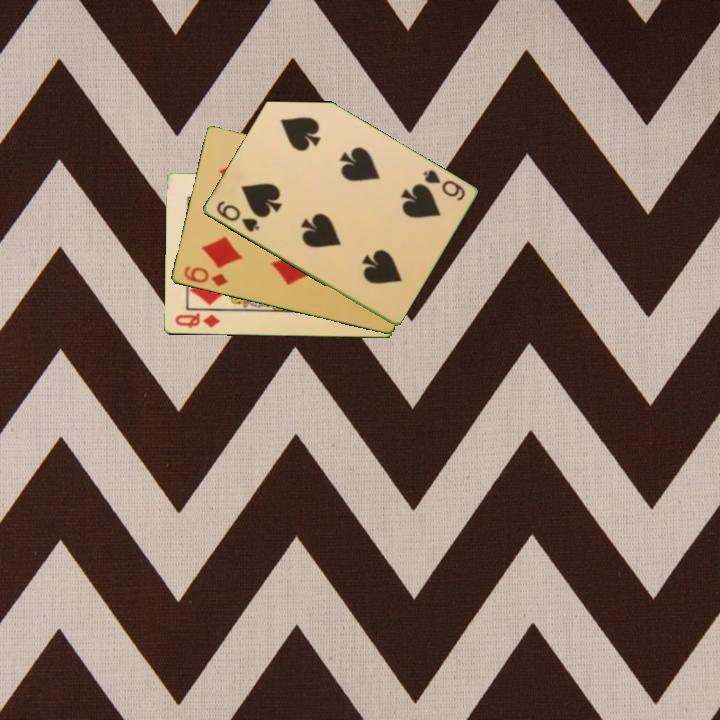6d: (180, 263, 231, 290)
6s: (212, 197, 262, 235), (419, 166, 468, 204)
Qd: (171, 310, 222, 331)
